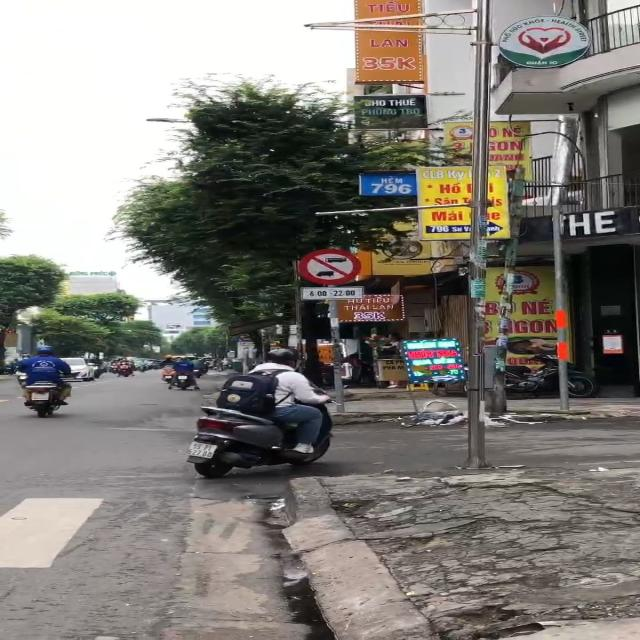Bien bao cam xe oto khach va xe oto tai: (291, 245, 364, 286)
